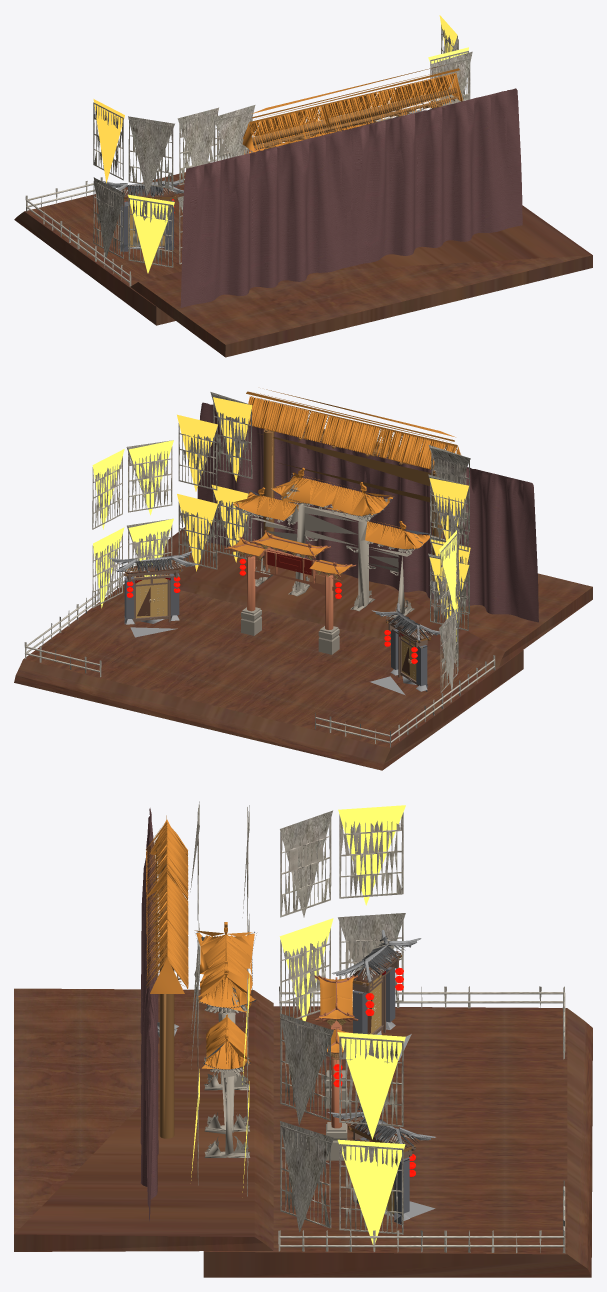
File: yue-opera-stage-mobile.glb
3 views of the same model, one above another, from view 1: azimuth 30°, elevation 25°; view 2: azimuth 150°, elevation 25°; view 3: azimuth 270°, elevation 25° (orthographic). The views are drawn at different scales.
Parts seen in each view (by area): view 1: Yueju_Opera_Stage; view 2: Yueju_Opera_Stage; view 3: Yueju_Opera_Stage.
Part boxes in pixels (bbox=[...]): Yueju_Opera_Stage: bbox=[14, 15, 592, 357]; Yueju_Opera_Stage: bbox=[14, 389, 592, 770]; Yueju_Opera_Stage: bbox=[14, 801, 592, 1277].
Bounding box in the file's own units: 16.05 × 8.49 × 15.9.
33 materials, 20 textured.
